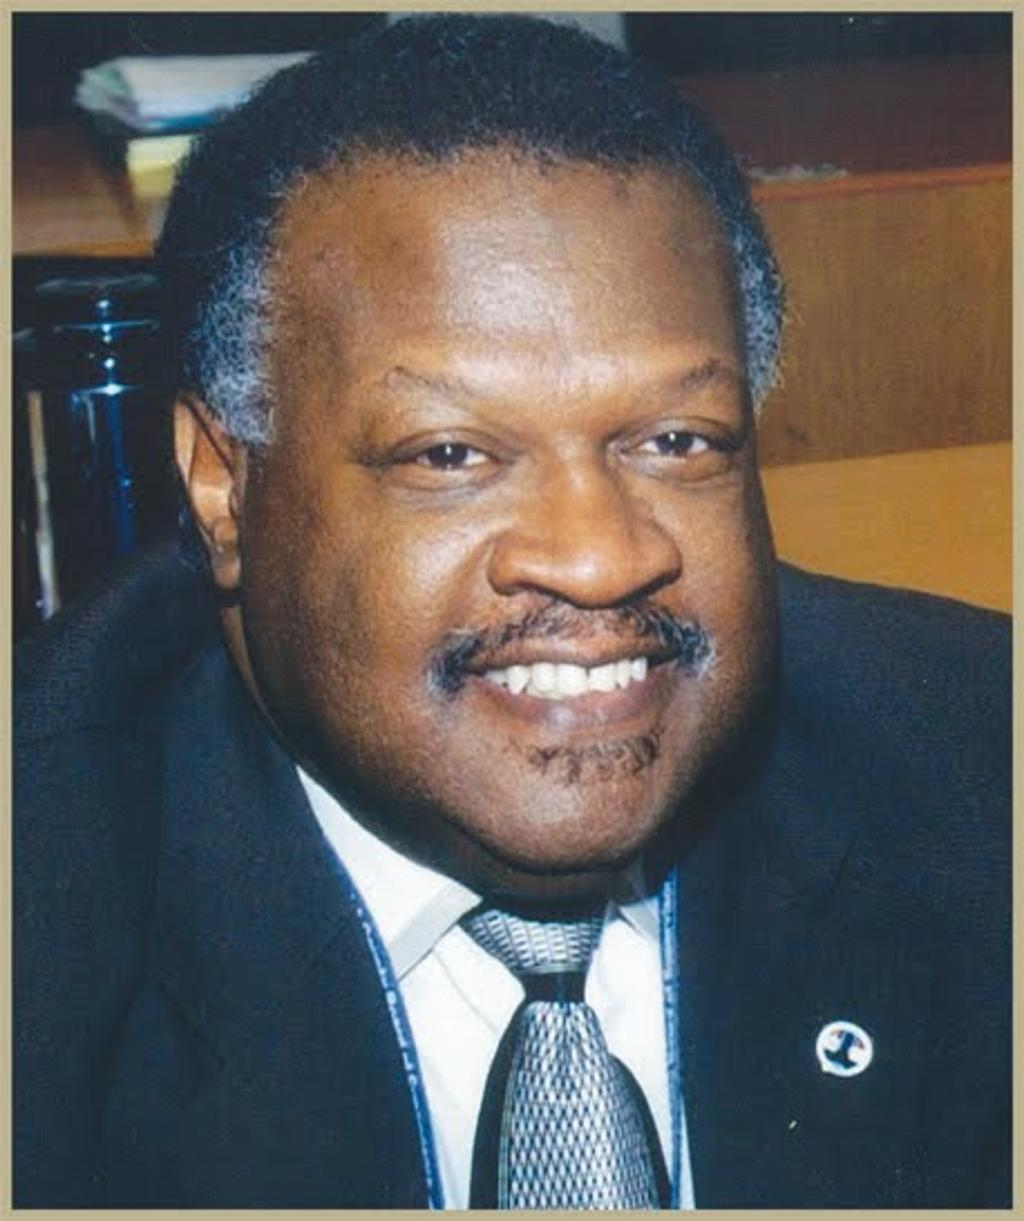face: (286, 181, 749, 823)
